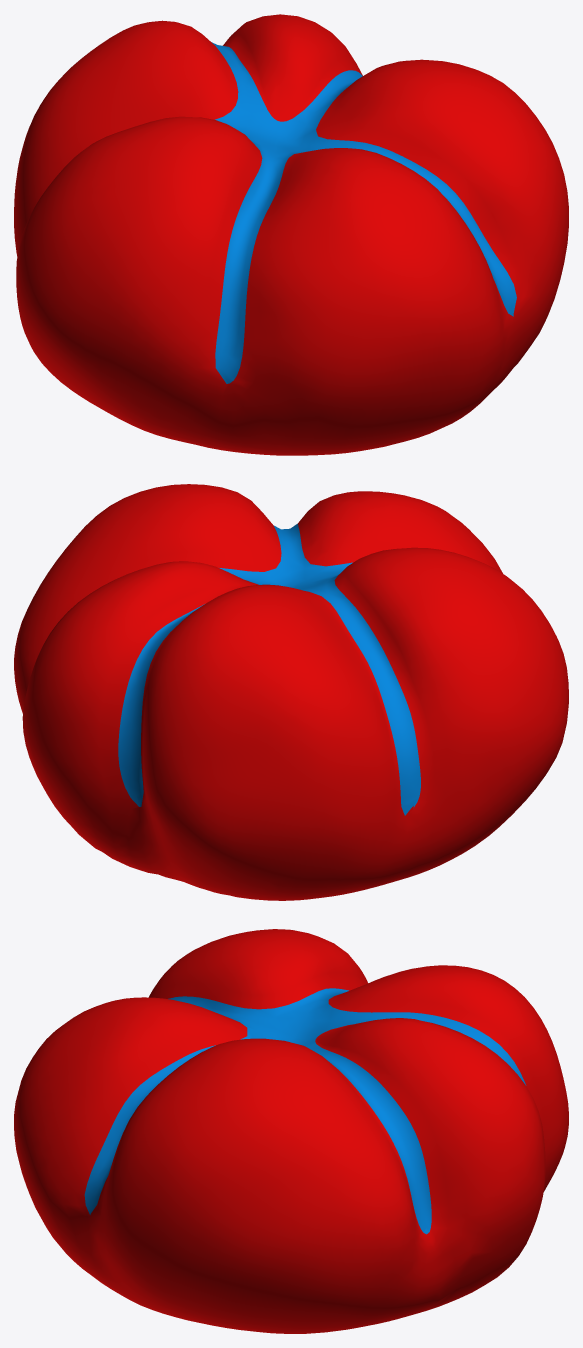
The model's file is cheeseBread_LP.fbx.
3 renders of one model, top to bottom at view 1: azimuth 30°, elevation 25°; view 2: azimuth 150°, elevation 25°; view 3: azimuth 270°, elevation 25°, orthographic. The views are drawn at different scales.
Parts seen in each view (by area): view 1: cheeseBread; view 2: cheeseBread; view 3: cheeseBread.
Boxes of the visible parts, x1,y1,x2,y2 form: cheeseBread: [14, 14, 568, 455]; cheeseBread: [14, 484, 568, 900]; cheeseBread: [14, 929, 568, 1333].
Size of the model in its own units: 12.43 by 7.03 by 12.54.
